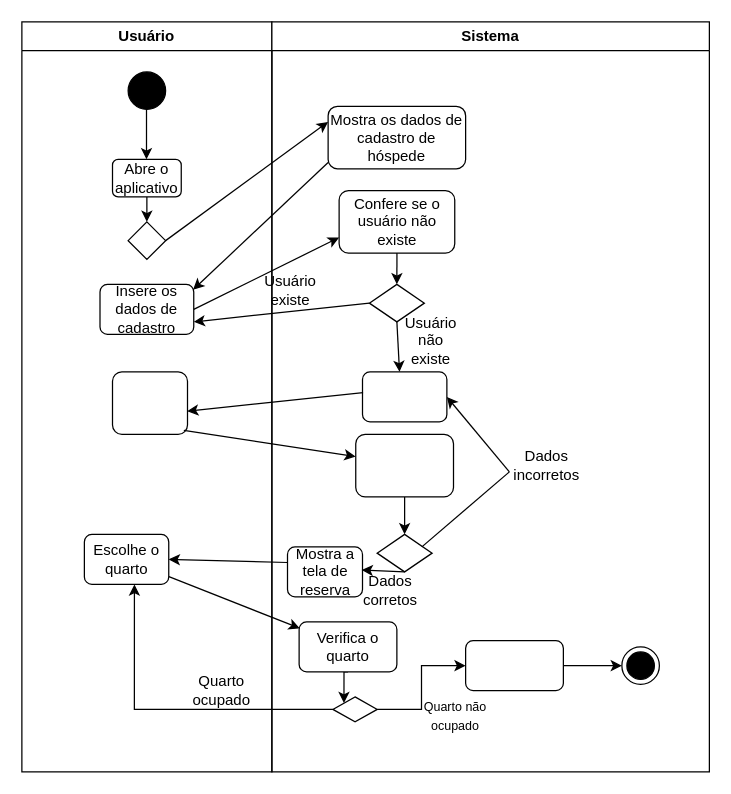
Some shapes in this 731 by 794 pixel diagram are drawn without their labels. Each missing label, with the centre of its shape:
"Insere os dados de login" goes at point (149, 402).
"Mostra a tela de login" goes at point (404, 396).
"Registra no banco" goes at point (513, 665).
"Verifica os dados" goes at point (404, 465).
